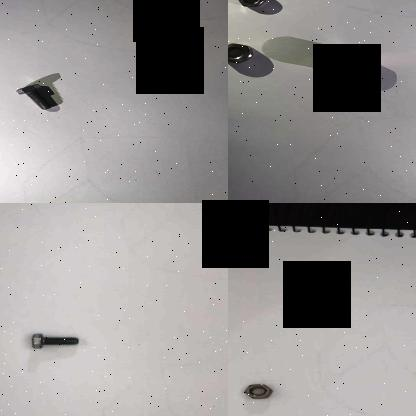Bolts: (11, 76, 57, 114), (25, 328, 84, 353)
NUTS: (314, 46, 358, 74), (228, 41, 256, 65), (242, 382, 275, 400), (234, 0, 266, 8)
